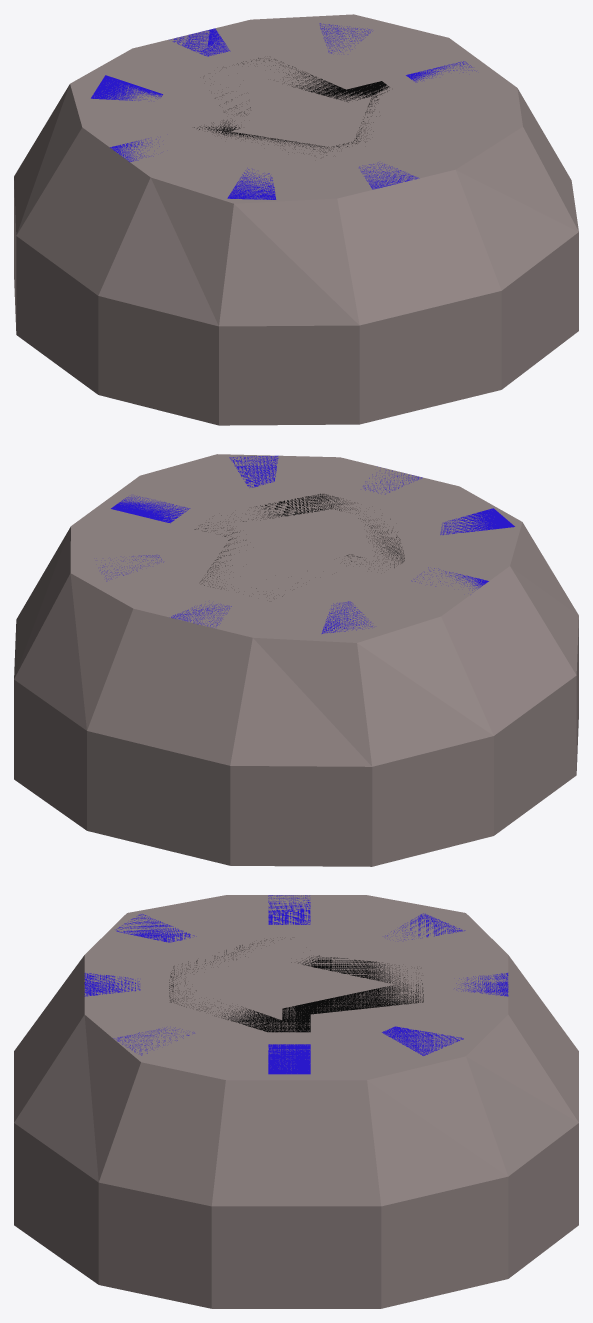
The model's file is inv_body_rune.obj.
3 renders of one model, top to bottom at view 1: azimuth 30°, elevation 25°; view 2: azimuth 150°, elevation 25°; view 3: azimuth 270°, elevation 25°, orthographic. The views are drawn at different scales.
Bounding box in the file's own units: 0.3125 × 0.125 × 0.3125.
